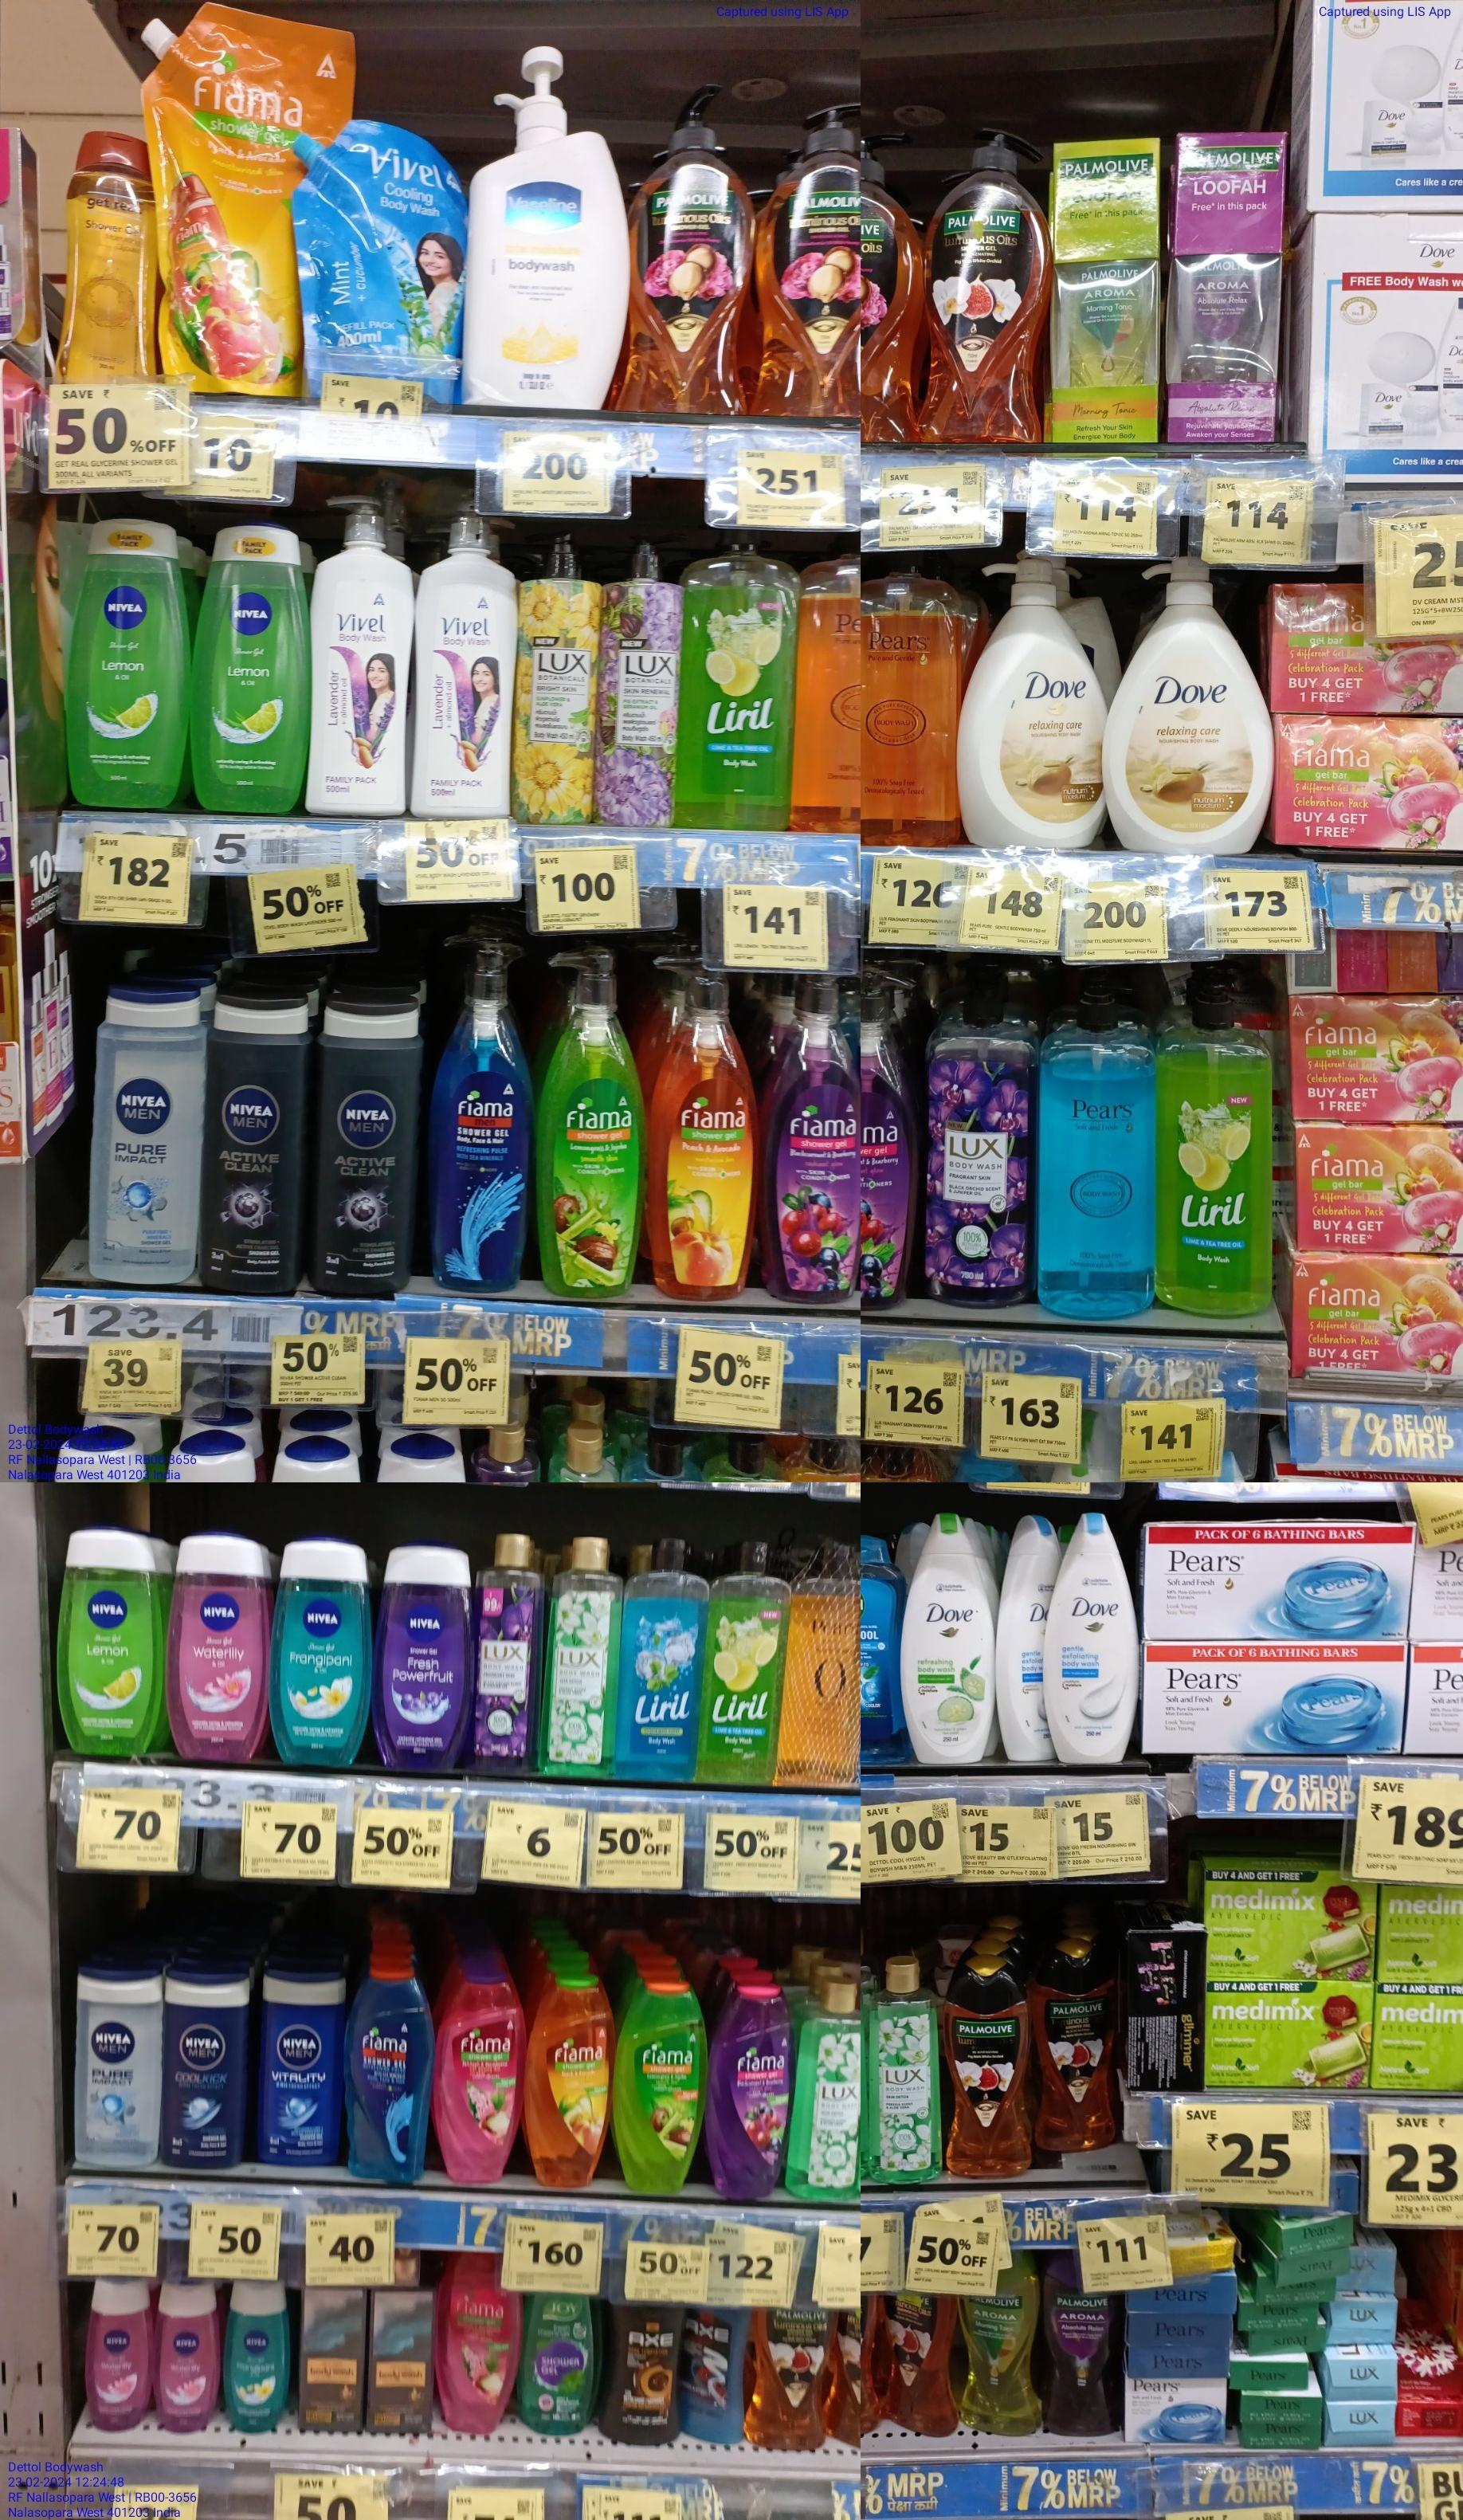Dove_Gentle_Exfoliating_Body_Wash_250ML: (1043, 1519, 1137, 1762)
Dove_Refreshing_Body_Wash_250ML: (899, 1517, 994, 1764)
Fiama_Shower_Gel_Lemongrass_and_Jojoba_250ML: (613, 1978, 704, 2191)
Fiama_Shower_Gel_Patchouli_and_Macadamia_250ML: (435, 1971, 517, 2182)
Fiama_Shower_Gel_Peach_and_Avocado_250ML: (528, 1975, 610, 2186)
Get_Real_Shower_Gel_Moisturising_Glycerin_300ML: (61, 127, 155, 383)
Liril_Cooling_Mint_Body_Wash_250ML: (622, 1540, 702, 1783)
Liril_Lime_and_Tea_Tree_Oil_Body_Wash_250ML: (1160, 991, 1275, 1318)
Lux_Black_Orchid_Scent_and_Juniper_Oil_Body_Wash_245ML: (475, 1533, 538, 1776)
Lux_Body_Wash_Skin_Detox_Freesia_Scent_and_Alove_Vera_245ML: (542, 1538, 618, 1782), (867, 1963, 940, 2182)
Nivea_Shower_Gel_Frangipani_and_Oil_250ML: (272, 1543, 369, 1762), (221, 2281, 289, 2431)
Nivea_Shower_Gel_Fresh_Powerfruit_250ML: (378, 1543, 470, 1769)
Nivea_Shower_Gel_Lemon_and_Oil_250ML: (64, 519, 183, 810), (192, 528, 307, 813), (59, 1533, 167, 1755)
Nivea_Shower_Gel_Waterlily_and_Oil_250ML: (172, 1536, 266, 1759), (87, 2278, 152, 2433), (155, 2278, 216, 2433)
Palmolive_Luminous_Oils_With_White_Orchid_Shower_Gel_250ML: (946, 1968, 1031, 2179), (1035, 1945, 1116, 2153)
Pears_Naturale_Aloe_Vera_Body_Wash_250ML: (1042, 989, 1155, 1313)
